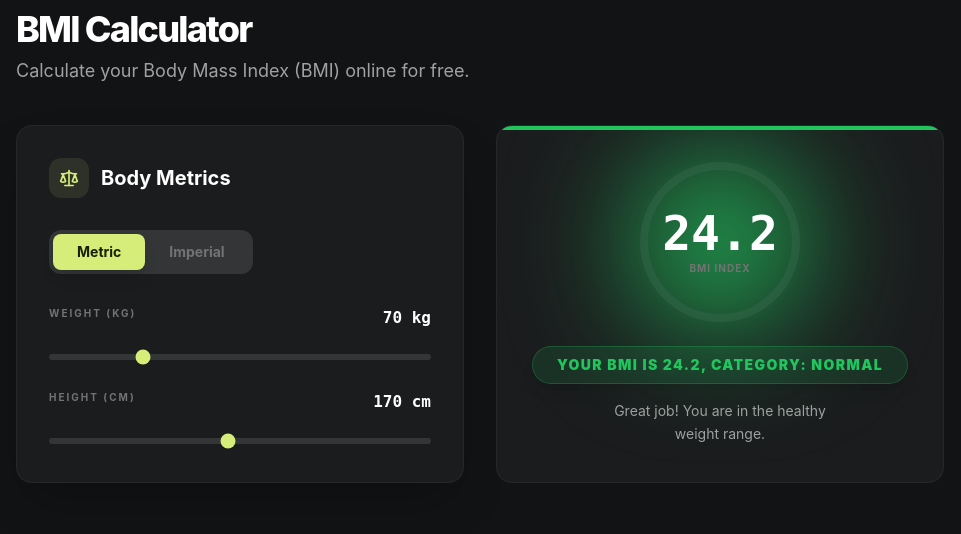
it: BMICalculator › accepts weight input
Set the 1st slider to "80" at (165, 357), box [49,354,431,360]
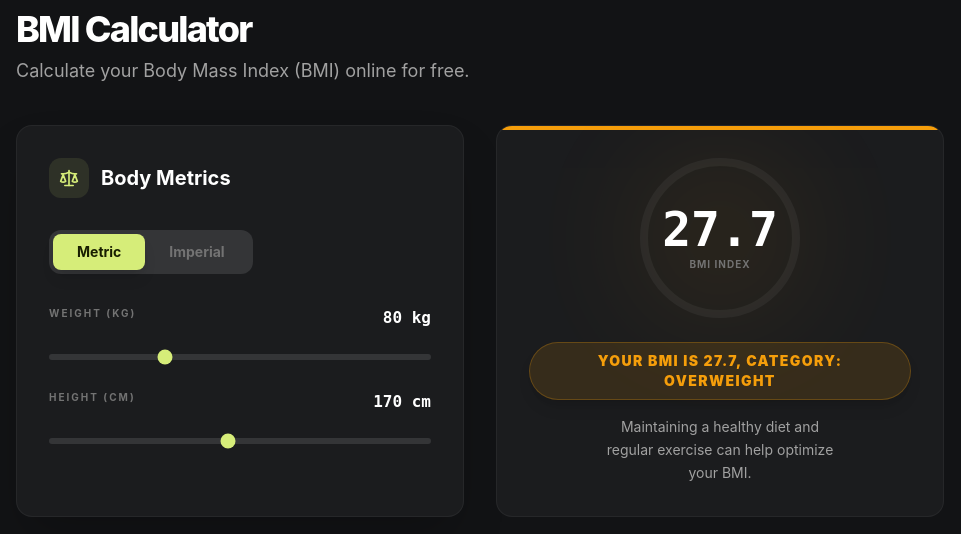
Result: the text "80 kg" is shown at [383,306,431,330]
